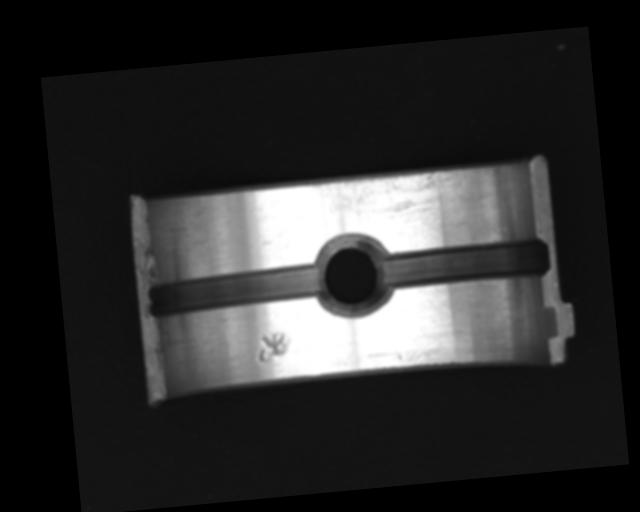bruise: (255, 330, 294, 363)
gap: (144, 261, 327, 322), (378, 237, 551, 291)
hole: (310, 230, 394, 321)
scratch: (303, 167, 469, 231)
